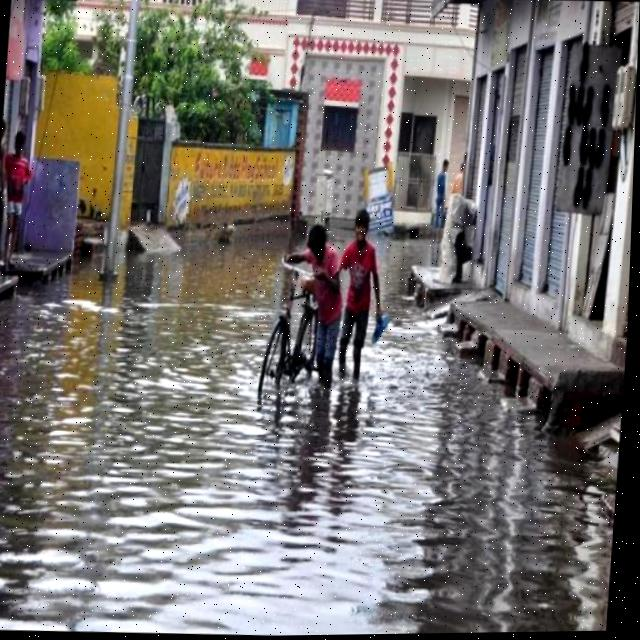civilian: (275, 222, 359, 394), (325, 195, 397, 386), (0, 112, 42, 276), (427, 153, 452, 240)
